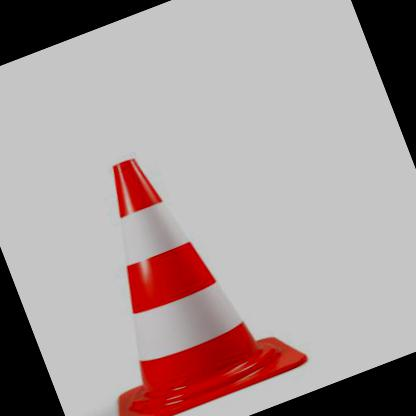cone: (30, 124, 310, 415)
